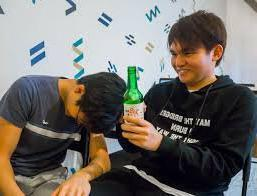Drunk: (169, 42, 208, 83)
